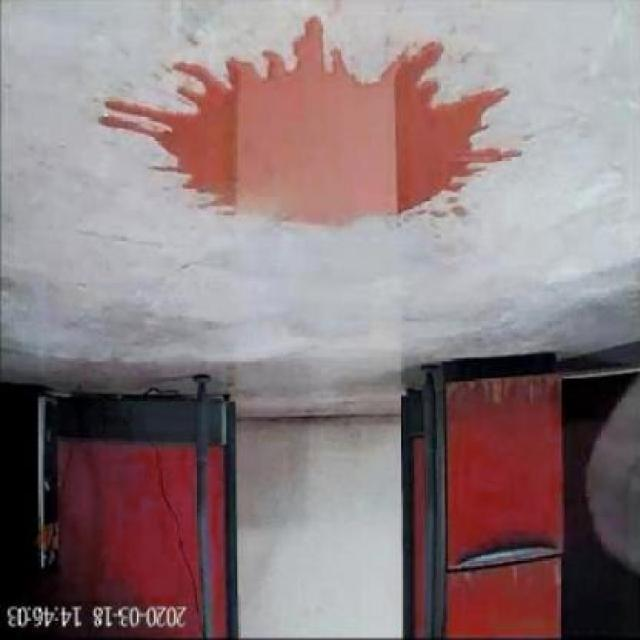spillage: (100, 16, 508, 226)
